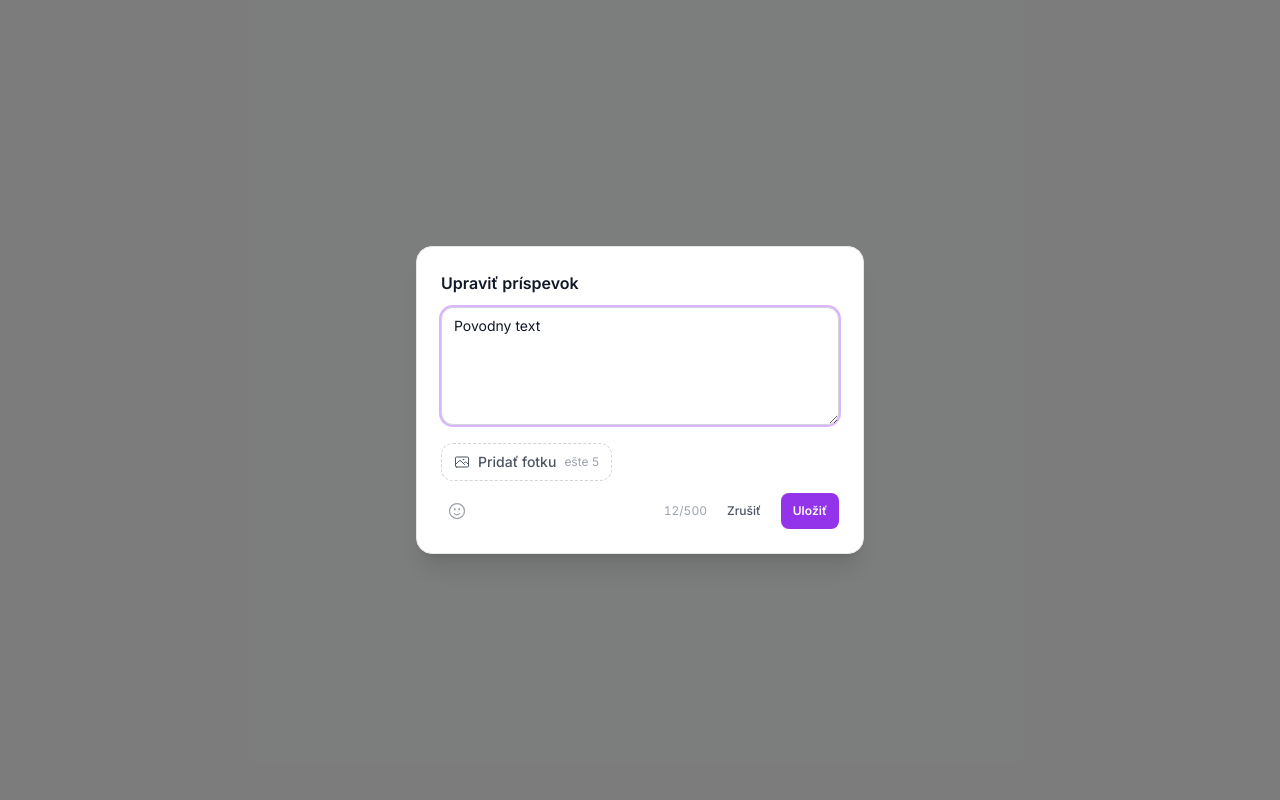
Test: príspevok nesmie ostať prázdny › refuses to save when nothing would be left
The image size is (1280, 800).
Clear the text box with test id "feed-post-edit-input". click: (640, 366)
box: [441,307,839,425]
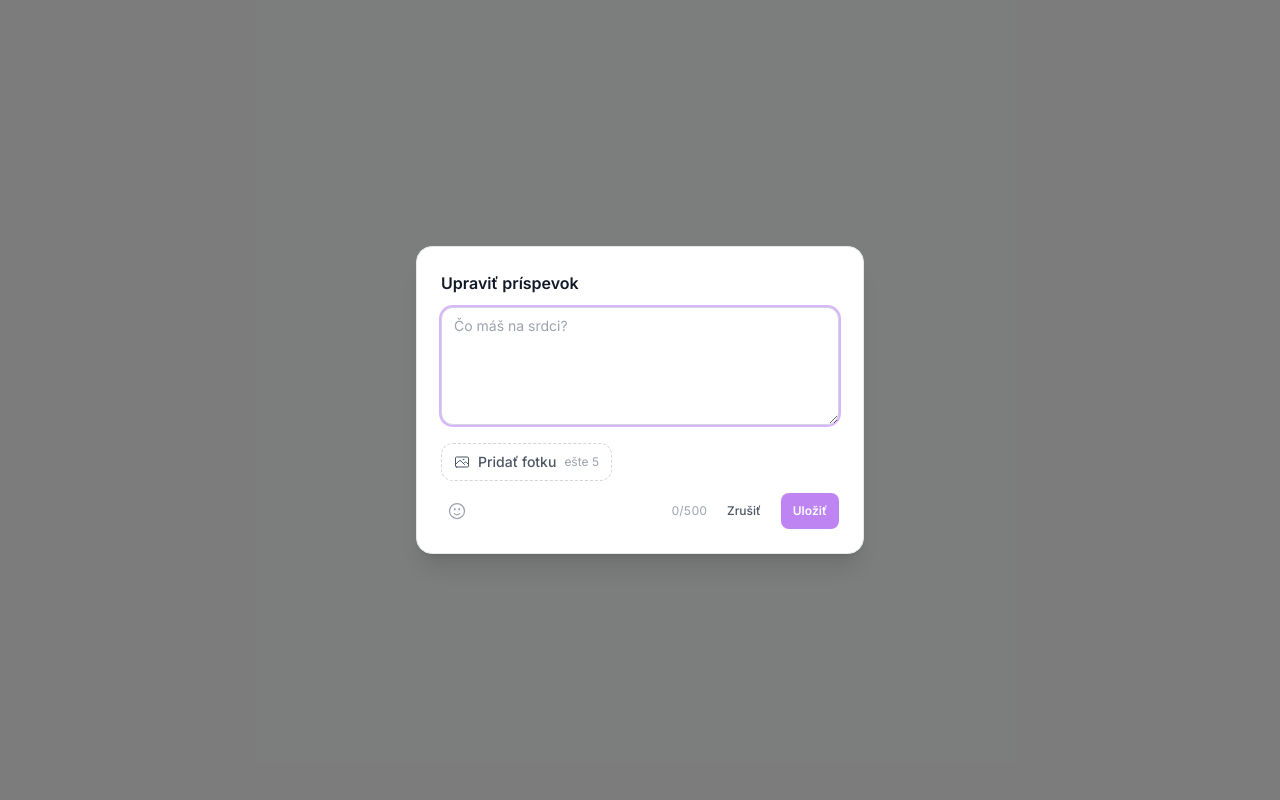
Check: the button with test id "feed-post-edit-submit" is disabled, box [781,493,839,529]
